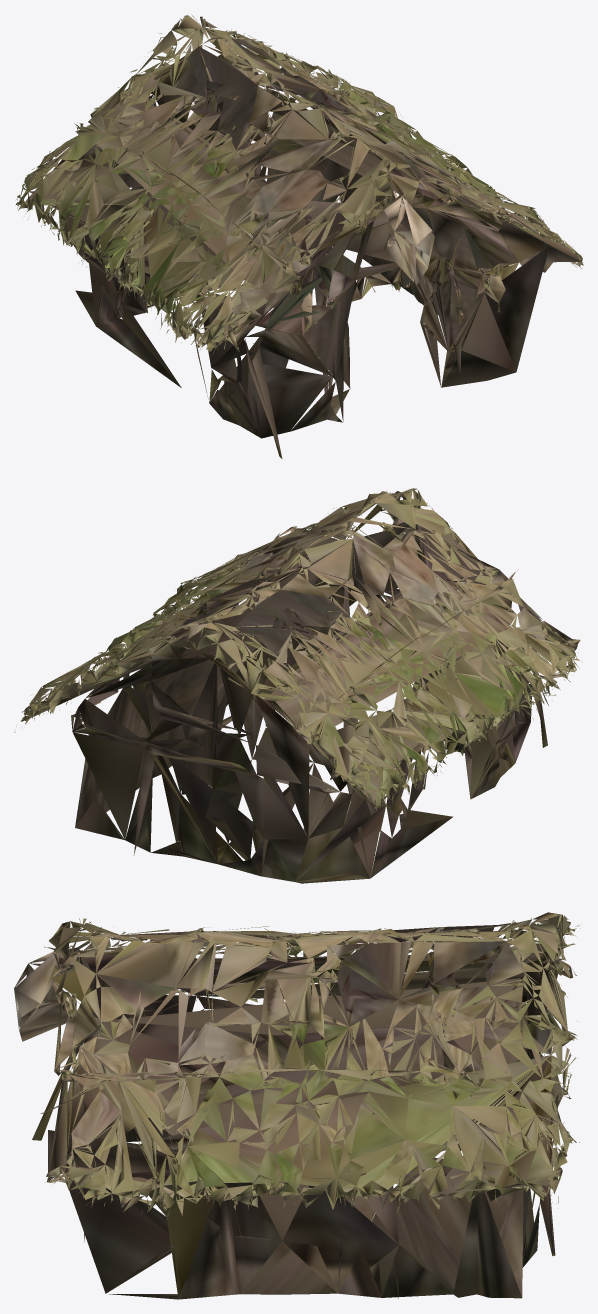
The model's file is hornschaedel_huette.glb.
The picture shows the model from 3 angles, top to bottom: view 1: azimuth 30°, elevation 25°; view 2: azimuth 150°, elevation 25°; view 3: azimuth 270°, elevation 25°; orthographic projection. The views are drawn at different scales.
Bounding box in the file's own units: 1.72 × 1.07 × 1.85.
Materials: 1 (1 with a texture image).
